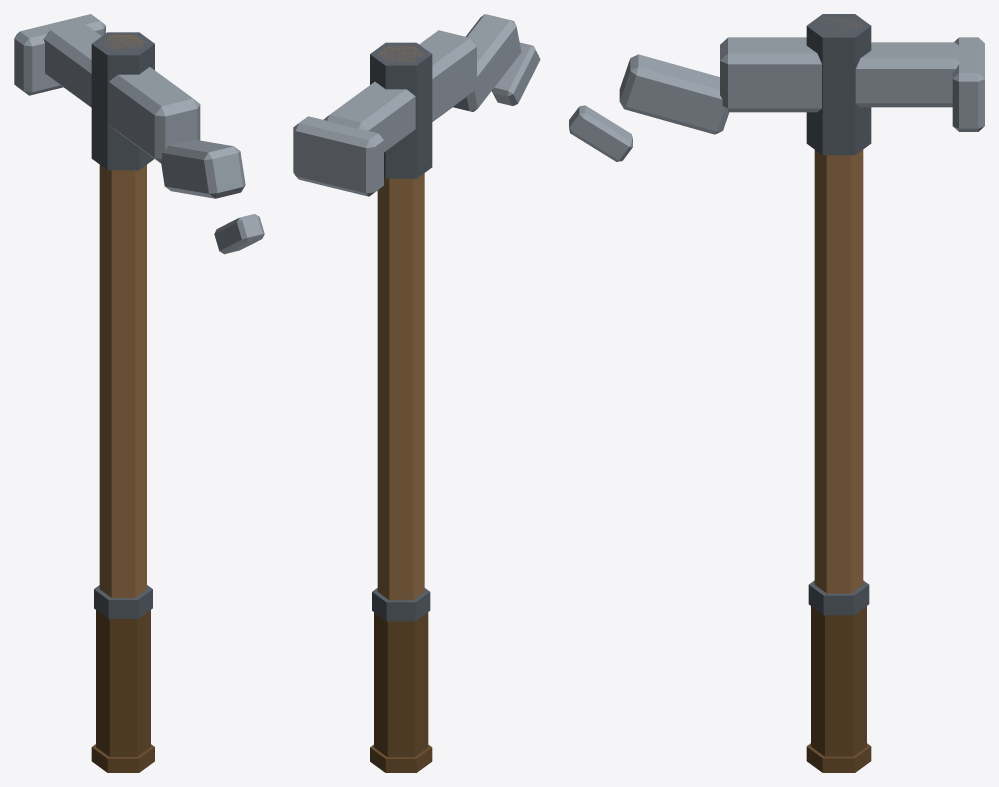
The model's file is pioche_fer.glb.
The picture shows the model from 3 angles, left to right: view 1: azimuth 30°, elevation 25°; view 2: azimuth 150°, elevation 25°; view 3: azimuth 270°, elevation 25°; orthographic projection. The views are drawn at different scales.
Visible parts, largest first — view 1: pioche_manche.004, pioche_fer_outil.002, pioche_manche_sombre.004, pioche_fer_sombre.002; view 2: pioche_manche.004, pioche_fer_outil.002, pioche_manche_sombre.004, pioche_fer_sombre.002; view 3: pioche_fer_outil.002, pioche_manche.004, pioche_manche_sombre.004, pioche_fer_sombre.002.
Boxes of the visible parts, x1,y1,x2,y2 form: pioche_manche.004: (99, 35, 146, 597); pioche_fer_outil.002: (14, 14, 264, 254); pioche_manche_sombre.004: (91, 610, 154, 772); pioche_fer_sombre.002: (91, 32, 154, 618); pioche_manche.004: (377, 45, 424, 600); pioche_fer_outil.002: (293, 14, 540, 196); pioche_manche_sombre.004: (370, 612, 432, 772); pioche_fer_sombre.002: (370, 42, 432, 621); pioche_fer_outil.002: (569, 37, 984, 161); pioche_manche.004: (814, 17, 863, 593); pioche_manche_sombre.004: (806, 606, 871, 772); pioche_fer_sombre.002: (806, 14, 871, 615).
Bounding box in the file's own units: 0.09 × 0.75 × 0.3846.
